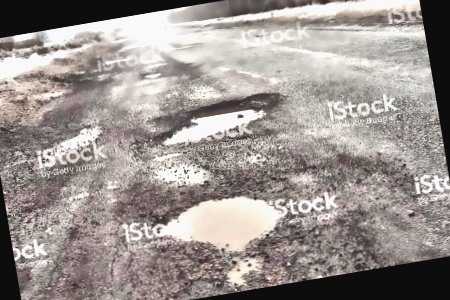pothole: (156, 183, 290, 261), (145, 87, 287, 151)
